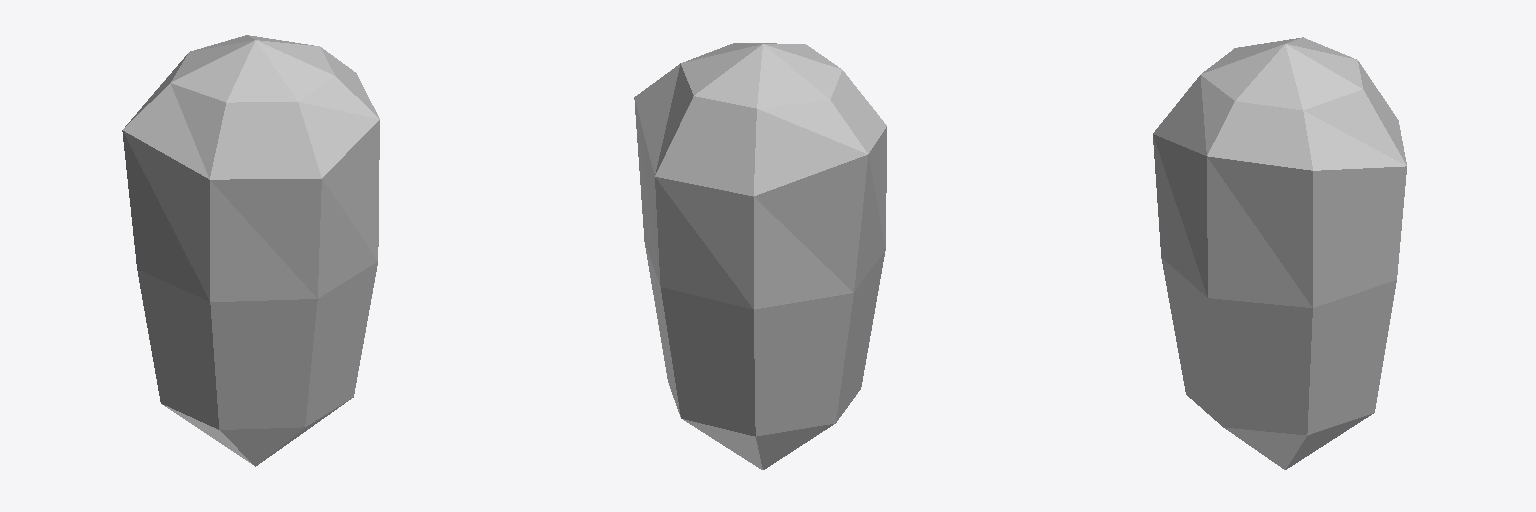
File: crystal.obj
3 renders of one model, left to right at view 1: azimuth 30°, elevation 25°; view 2: azimuth 150°, elevation 25°; view 3: azimuth 270°, elevation 25°, orthographic.
Parts seen in each view (by area): view 1: crystal; view 2: crystal; view 3: crystal.
Part boxes in pixels (left/top/right/bottom): crystal: left=122, top=35, right=379, bottom=466; crystal: left=634, top=43, right=886, bottom=469; crystal: left=1153, top=37, right=1406, bottom=469.
Bounding box in the file's own units: 1.17 × 2.04 × 1.1.